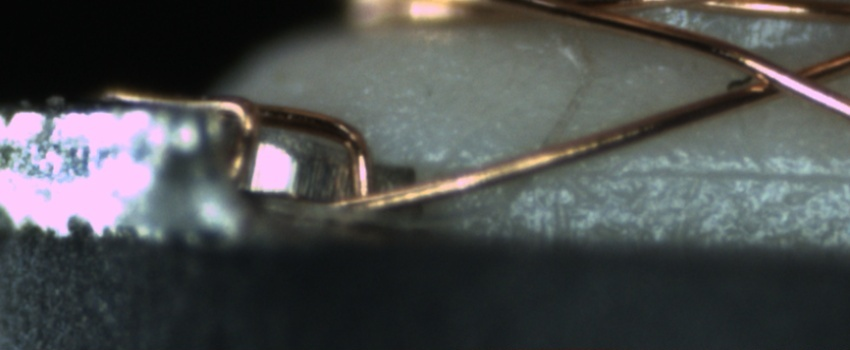CL: (730, 52, 846, 104)
DL: (583, 138, 850, 198)
TE: (107, 81, 370, 199)
